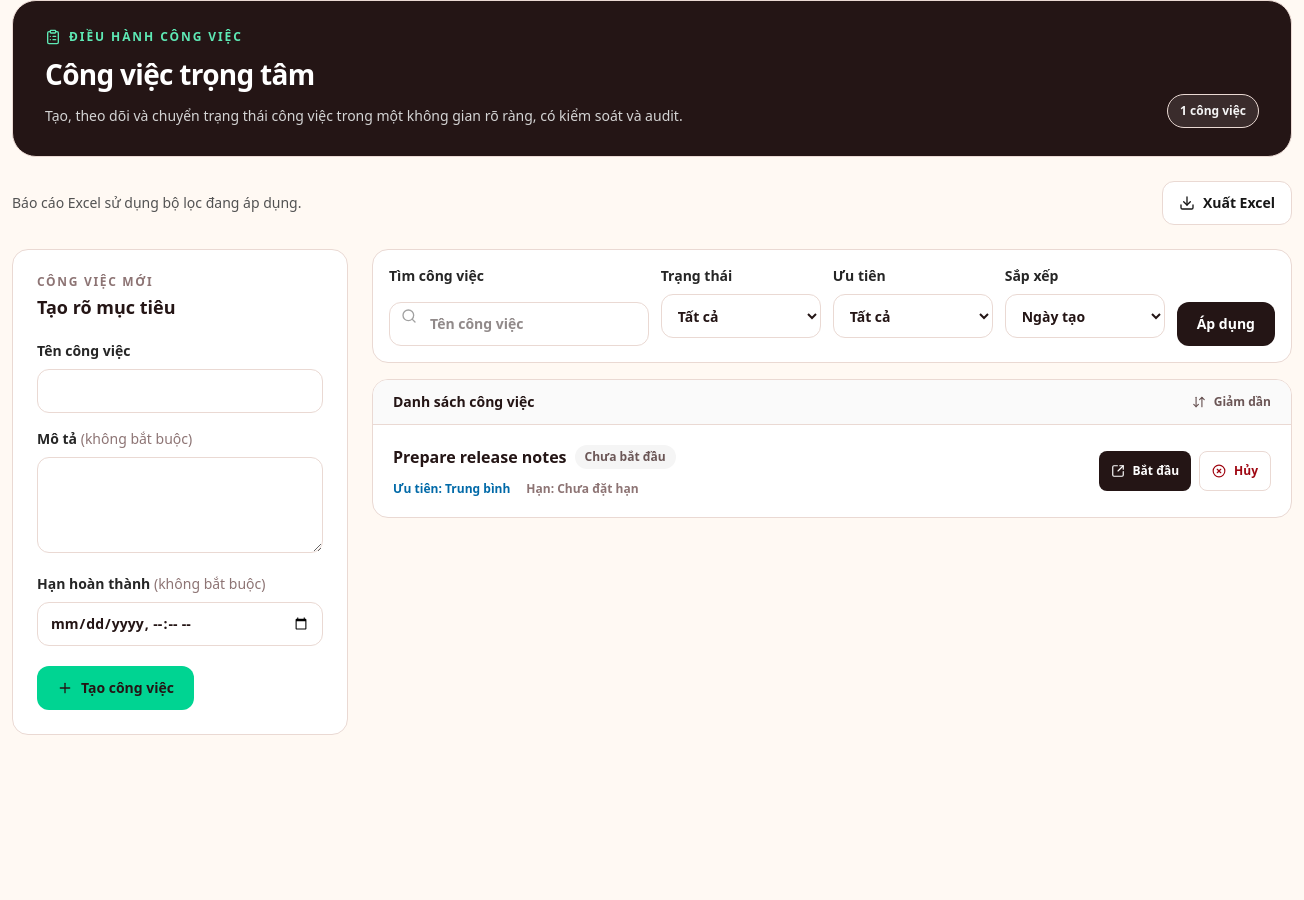
Test case: TaskWorkspace › shows a clear error when a status transition is rejected
Expected: the heading "Prepare release notes" is shown, [393,445,566,469]
Step 1. Click the button "Bắt đầu" → (1145, 471), box [1098,451,1191,491]
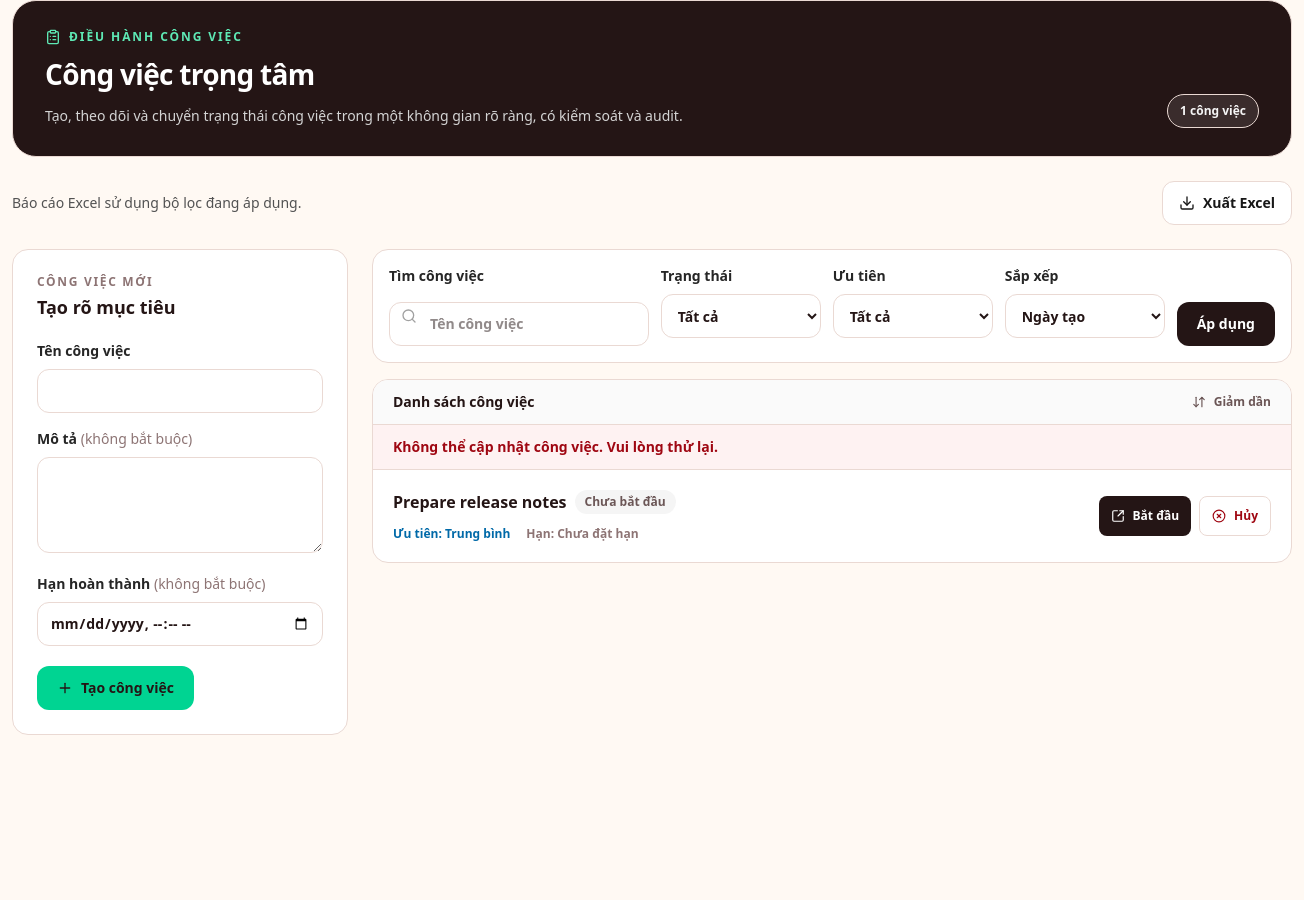
Expected: the text "Không thể cập nhật công việc. Vui lòng thử lại." is shown, [373,425,1291,470]
